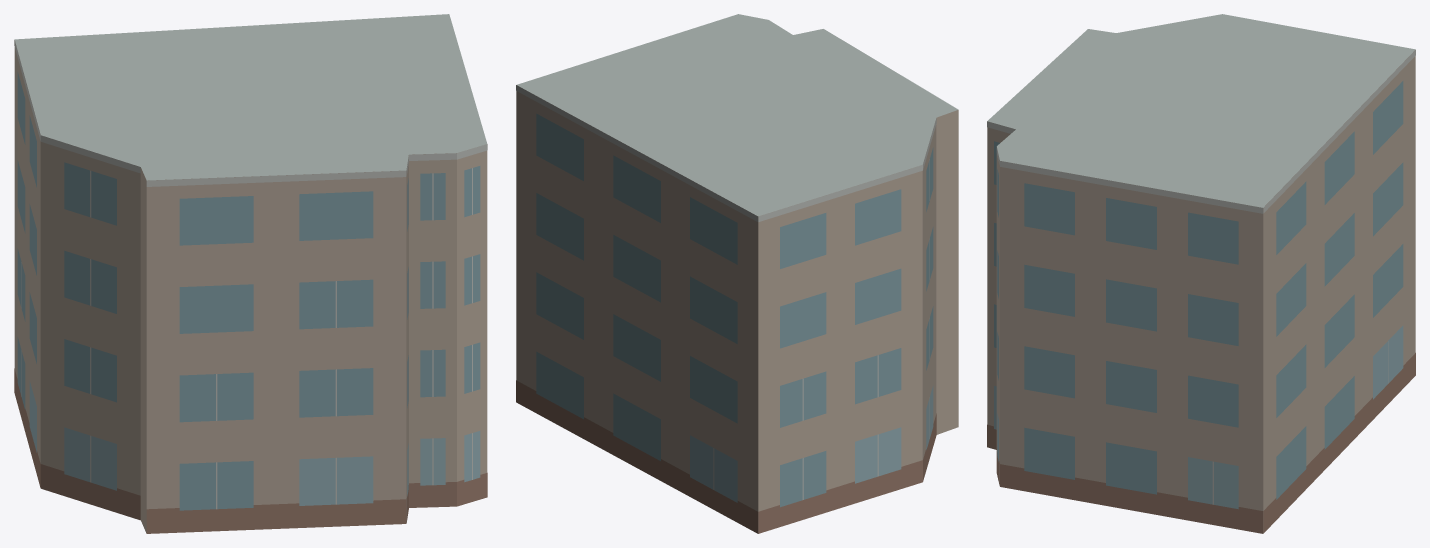
The model's file is survey-upis-32633839.glb.
3 renders of one model, left to right at view 1: azimuth 30°, elevation 25°; view 2: azimuth 150°, elevation 25°; view 3: azimuth 270°, elevation 25°, orthographic. The views are drawn at different scales.
Visible parts, largest first — view 1: survey-upis-32633839.tmp; view 2: survey-upis-32633839.tmp; view 3: survey-upis-32633839.tmp.
Part boxes in pixels (box(x1,y1,x2,y2)): survey-upis-32633839.tmp: box(14, 14, 487, 533); survey-upis-32633839.tmp: box(516, 14, 958, 533); survey-upis-32633839.tmp: box(987, 14, 1415, 533).
Size of the model in its own units: 16.84 by 13.2 by 15.74.
